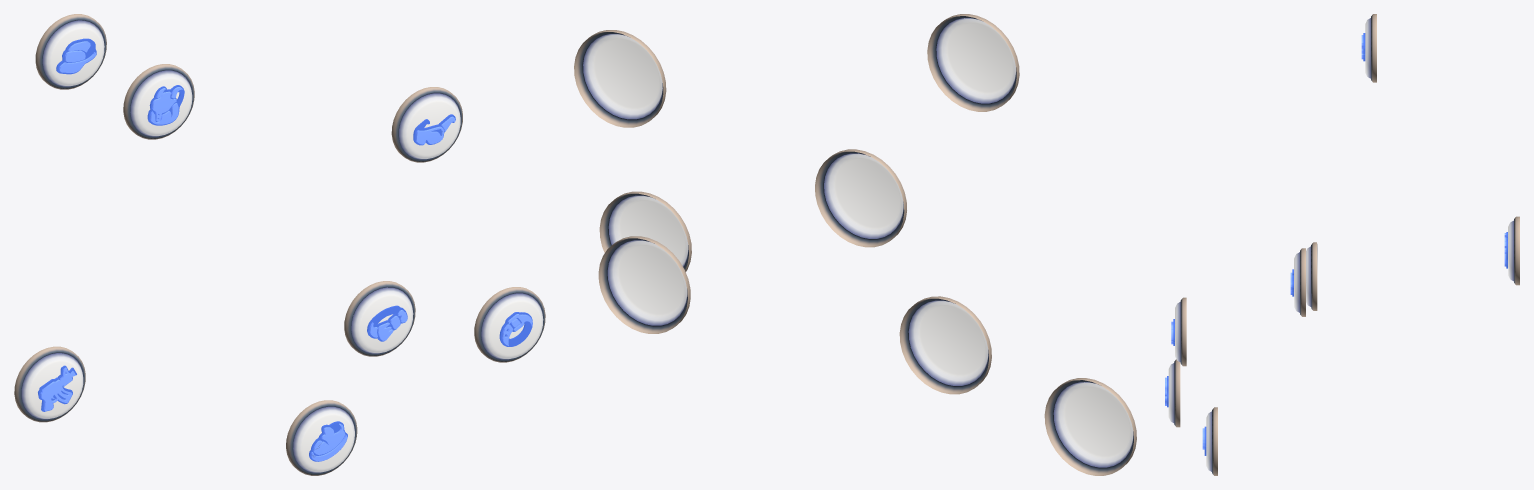
File: BTLMN_LemonIcons.glb
3 views of the same model, side by side, from view 1: azimuth 30°, elevation 25°; view 2: azimuth 150°, elevation 25°; view 3: azimuth 270°, elevation 25° (orthographic). The views are drawn at different scales.
Parts seen in each view (by area): view 1: icon_hand_r_on, icon_back_on, icon_cloth_on, icon_hand_l_on, icon_cap_on, icon_face_on, icon_foot_on; view 2: icon_foot_on, icon_back_on, icon_cap_on, icon_hand_r_on, icon_face_on, icon_cloth_on, icon_hand_l_on; view 3: icon_back_on, icon_foot_on, icon_cloth_on, icon_cap_on, icon_face_on, icon_hand_l_on, icon_hand_r_on.
Part boxes in pixels (left/top/right/bottom): icon_hand_r_on: left=14, top=346, right=85, bottom=422; icon_back_on: left=123, top=64, right=194, bottom=139; icon_cloth_on: left=344, top=281, right=415, bottom=356; icon_hand_l_on: left=474, top=287, right=545, bottom=362; icon_cap_on: left=35, top=14, right=106, bottom=89; icon_face_on: left=391, top=87, right=462, bottom=162; icon_foot_on: left=286, top=400, right=357, bottom=475; icon_foot_on: left=899, top=296, right=991, bottom=394; icon_back_on: left=598, top=236, right=690, bottom=333; icon_cap_on: left=927, top=14, right=1019, bottom=111; icon_hand_r_on: left=1044, top=378, right=1136, bottom=475; icon_face_on: left=574, top=30, right=666, bottom=127; icon_cloth_on: left=815, top=149, right=906, bottom=247; icon_hand_l_on: left=599, top=191, right=691, bottom=271; icon_back_on: left=1504, top=216, right=1519, bottom=285; icon_foot_on: left=1165, top=359, right=1180, bottom=427; icon_cloth_on: left=1171, top=297, right=1186, bottom=366; icon_cap_on: left=1361, top=14, right=1376, bottom=82; icon_face_on: left=1290, top=248, right=1305, bottom=316; icon_hand_l_on: left=1202, top=407, right=1217, bottom=475; icon_hand_r_on: left=1306, top=242, right=1317, bottom=310.
Bounding box in the file's own units: 213 × 176 × 162.
Materials: 5 (5 with a texture image).
